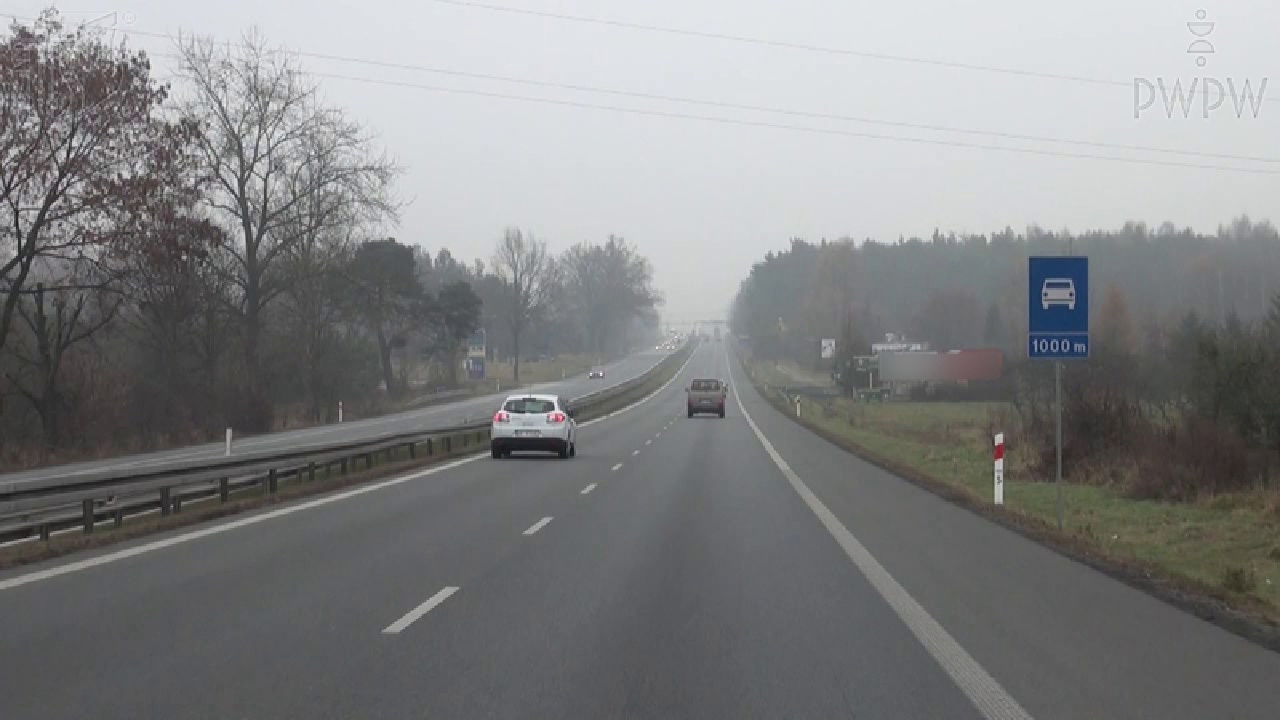D7: (1027, 256, 1089, 331)
